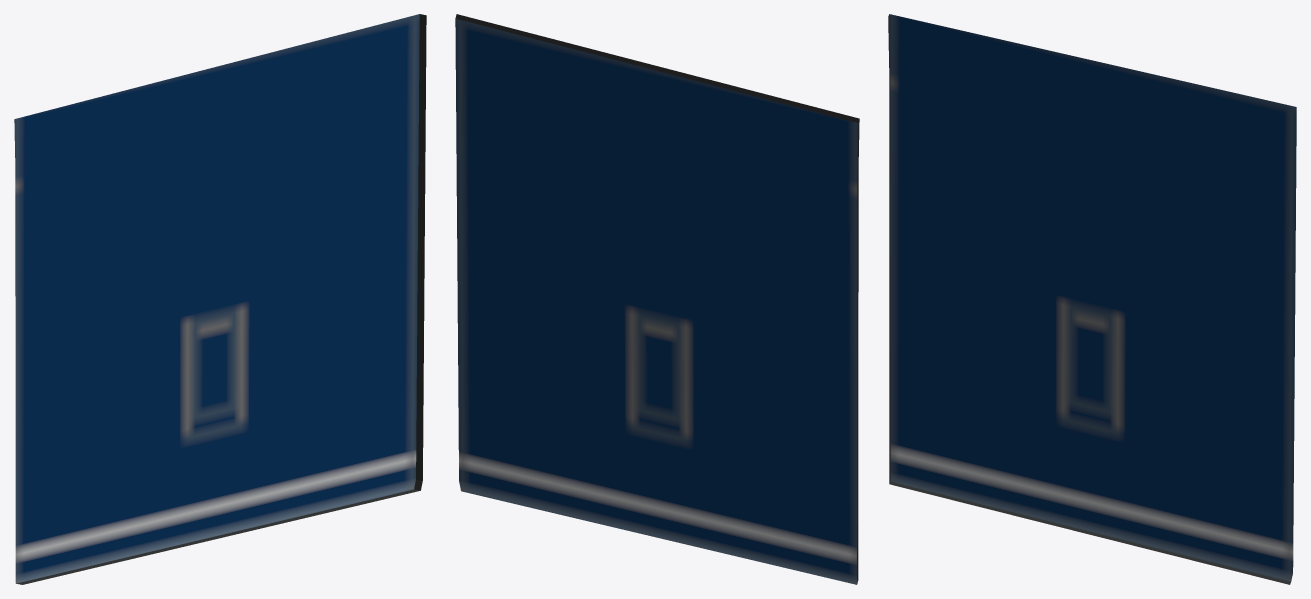
The model's file is PortaLateral02.glb.
3 renders of one model, left to right at view 1: azimuth 30°, elevation 25°; view 2: azimuth 150°, elevation 25°; view 3: azimuth 330°, elevation 25°, orthographic.
Visible parts, largest first — view 1: Cube_nishitetsu_0.006; view 2: Cube_nishitetsu_0.006; view 3: Cube_nishitetsu_0.006.
Part boxes in pixels (left/top/right/bottom): Cube_nishitetsu_0.006: left=14, top=14, right=426, bottom=584; Cube_nishitetsu_0.006: left=455, top=14, right=859, bottom=584; Cube_nishitetsu_0.006: left=888, top=14, right=1296, bottom=584.
Bounding box in the file's own units: 7.26 × 8.08 × 0.1241.
Materials: 2 (1 with a texture image).
